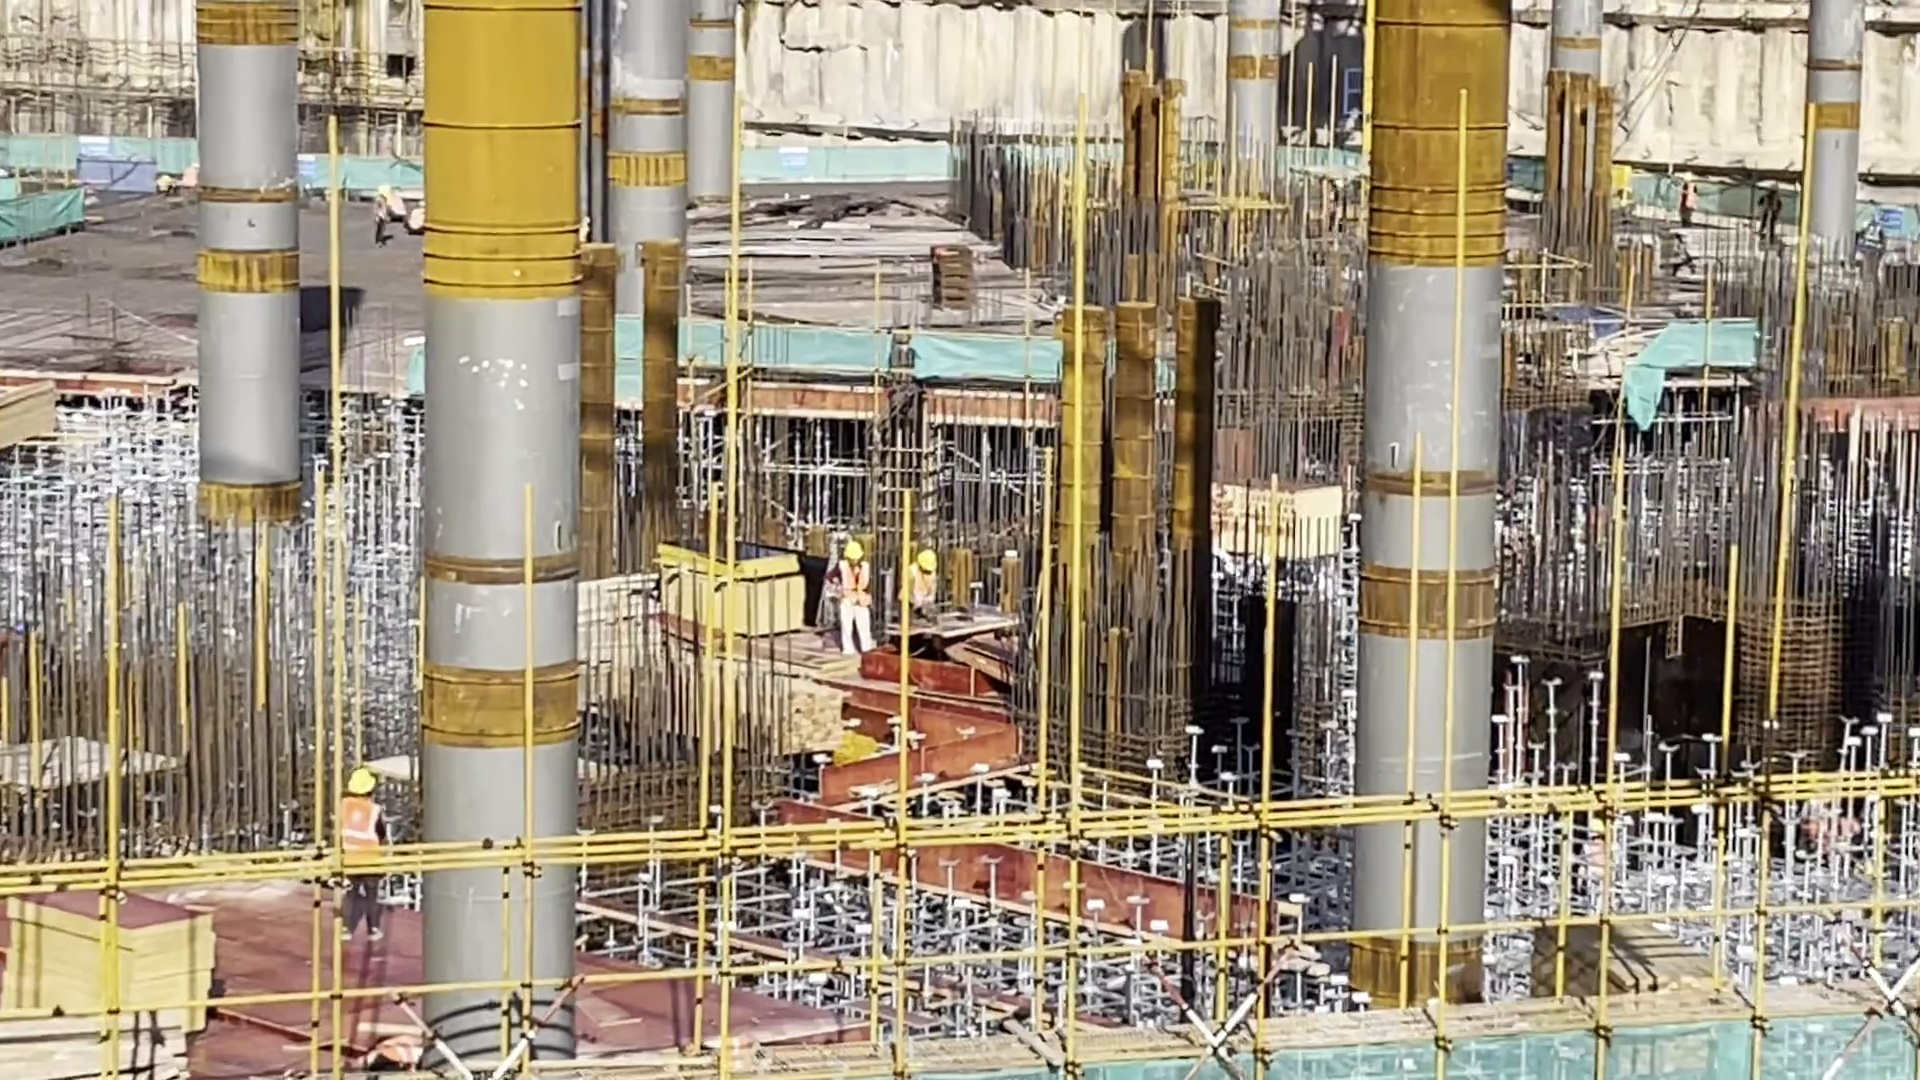helmet: (343, 763, 379, 804), (911, 548, 947, 580), (841, 537, 866, 568)
person: (329, 762, 404, 941), (825, 531, 880, 670), (901, 543, 950, 636), (1662, 165, 1709, 240), (1747, 174, 1791, 251), (369, 180, 395, 245), (406, 195, 437, 247)
vest: (336, 802, 390, 883), (907, 567, 946, 619), (838, 560, 873, 610)
